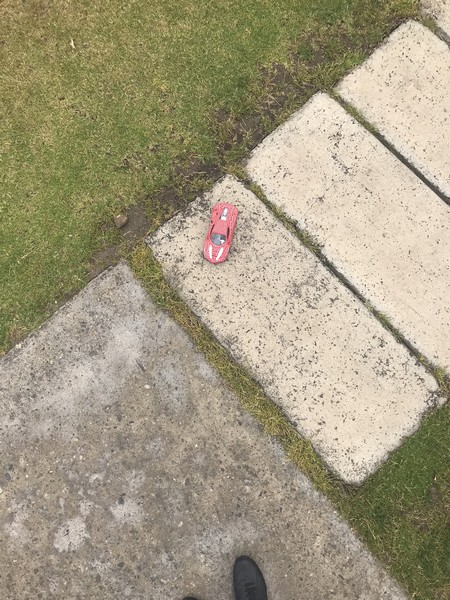RC: (202, 202, 241, 265)
